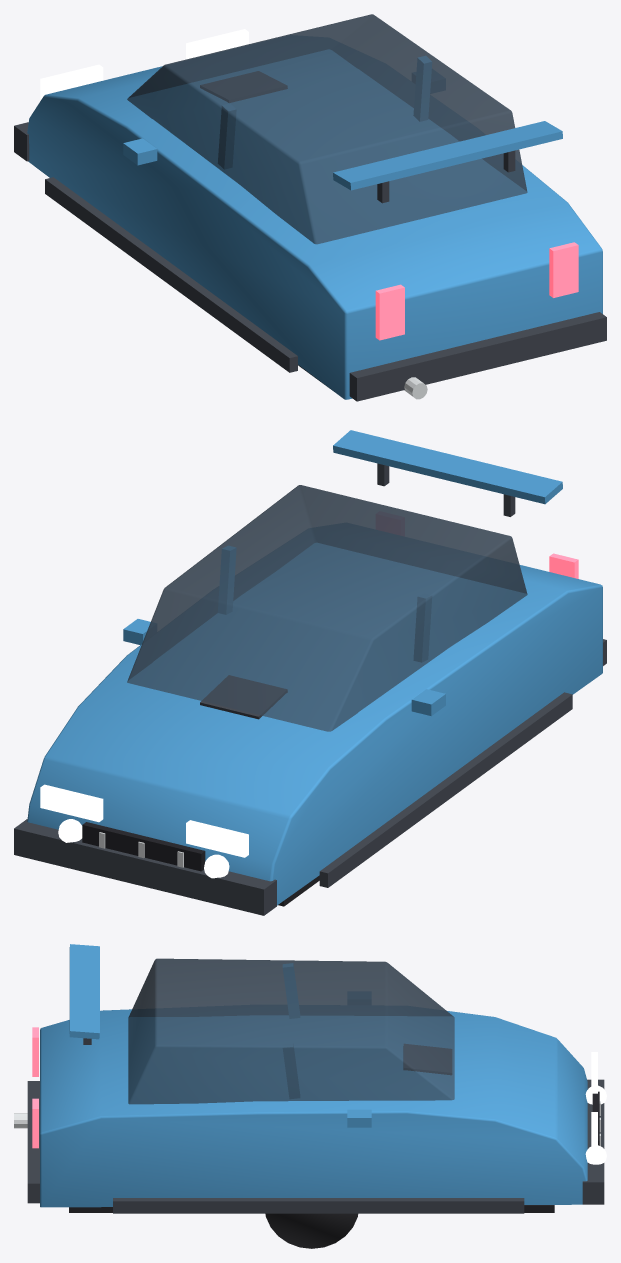
File: michi.glb
3 renders of one model, top to bottom at view 1: azimuth 30°, elevation 25°; view 2: azimuth 150°, elevation 25°; view 3: azimuth 270°, elevation 25°, orthographic. The views are drawn at different scales.
Visible parts, largest first — view 1: body_shell, cabin_glass, rear_bumper, skirt_L, spoiler_wing, hood_scoop, brake_light_L, brake_light_R, headlight_L, headlight_R, pillar_R, pillar_L (+2 smaller); view 2: body_shell, cabin_glass, front_bumper, spoiler_wing, skirt_L, grille, hood_scoop, headlight_R, headlight_L, pillar_R, pillar_L, mirror_L; view 3: body_shell, cabin_glass, skirt_R, spoiler_wing, wheel_fl_tire, front_bumper, rear_bumper, hood_scoop, pillar_L, pillar_R, undertray, mirror_R.
Part boxes in pixels (x1=…): body_shell: x1=27, y1=49, x2=602, y2=399; cabin_glass: x1=127, y1=14, x2=527, y2=244; rear_bumper: x1=349, y1=312, x2=606, y2=401; skirt_L: x1=45, y1=177, x2=297, y2=372; spoiler_wing: x1=333, y1=121, x2=562, y2=190; hood_scoop: x1=200, y1=71, x2=287, y2=102; brake_light_L: x1=375, y1=284, x2=404, y2=340; brake_light_R: x1=549, y1=242, x2=578, y2=297; headlight_L: x1=40, y1=64, x2=103, y2=99; headlight_R: x1=186, y1=29, x2=248, y2=59; pillar_R: x1=413, y1=56, x2=431, y2=121; pillar_L: x1=218, y1=104, x2=236, y2=169; body_shell: x1=27, y1=542, x2=602, y2=905; cabin_glass: x1=127, y1=485, x2=527, y2=731; front_bumper: x1=14, y1=819, x2=276, y2=915; spoiler_wing: x1=333, y1=430, x2=562, y2=504; skirt_L: x1=319, y1=692, x2=572, y2=887; grille: x1=82, y1=822, x2=205, y2=871; hood_scoop: x1=200, y1=675, x2=287, y2=719; headlight_R: x1=40, y1=784, x2=103, y2=822; headlight_L: x1=186, y1=820, x2=248, y2=857; pillar_R: x1=218, y1=546, x2=236, y2=614; pillar_L: x1=414, y1=593, x2=431, y2=662; mirror_L: x1=411, y1=689, x2=445, y2=716; body_shell: x1=40, y1=1009, x2=587, y2=1207; cabin_glass: x1=128, y1=958, x2=454, y2=1104; skirt_R: x1=113, y1=1198, x2=524, y2=1213; spoiler_wing: x1=69, y1=944, x2=99, y2=1039; wheel_fl_tire: x1=265, y1=1213, x2=358, y2=1248; front_bumper: x1=582, y1=1079, x2=604, y2=1204; rear_bumper: x1=27, y1=1081, x2=39, y2=1203; hood_scoop: x1=403, y1=1044, x2=451, y2=1074; pillar_L: x1=283, y1=963, x2=299, y2=1018; pillar_R: x1=283, y1=1043, x2=299, y2=1098; undertray: x1=69, y1=1205, x2=554, y2=1212; mirror_R: x1=347, y1=1109, x2=371, y2=1127.
Bounding box in the file's own units: 2.2 × 2.06 × 4.36.
